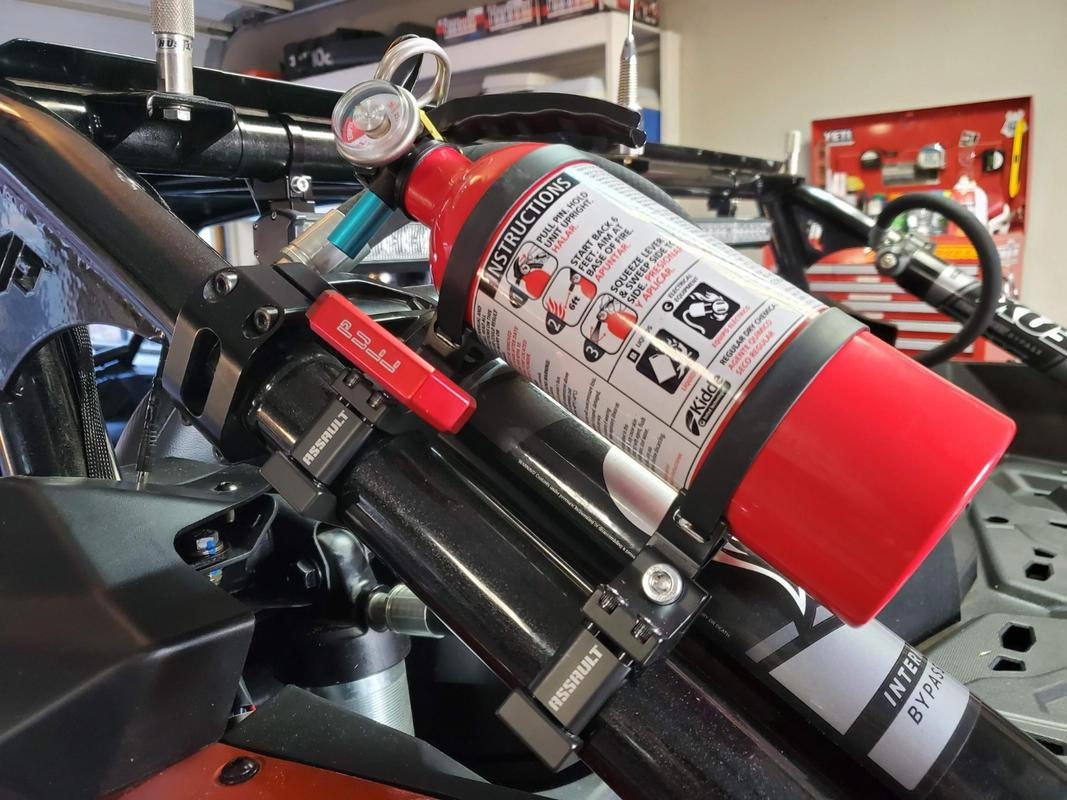Fire Extinguisher: (324, 64, 1026, 626)
